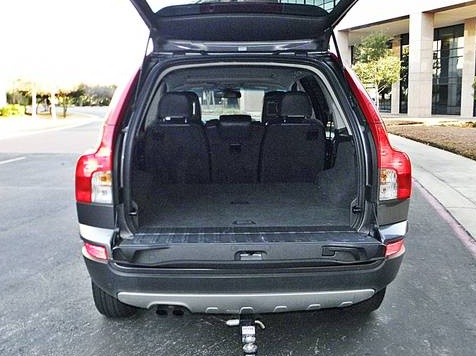volvo: (28, 1, 468, 356)
